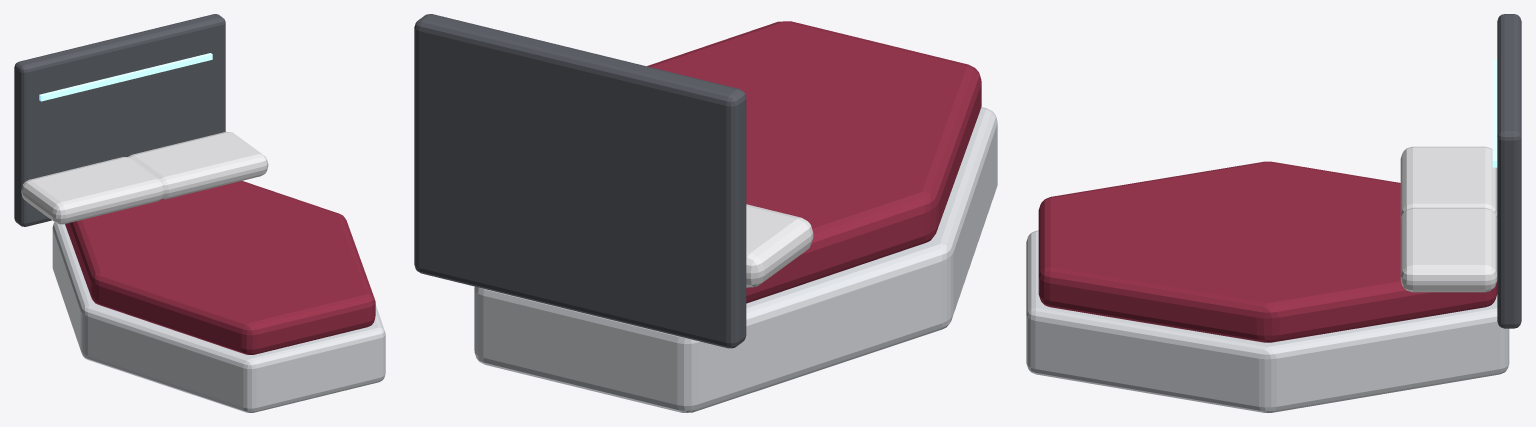
File: bed_hex.glb
The picture shows the model from 3 angles, left to right: view 1: azimuth 30°, elevation 25°; view 2: azimuth 150°, elevation 25°; view 3: azimuth 270°, elevation 25°; orthographic projection. The views are drawn at different scales.
Visible parts, largest first — view 1: GD_bed_hex__m1, GD_bed_hex__m4, GD_bed_hex__m0, GD_bed_hex__m3, GD_bed_hex__m2; view 2: GD_bed_hex__m4, GD_bed_hex__m1, GD_bed_hex__m0, GD_bed_hex__m3; view 3: GD_bed_hex__m1, GD_bed_hex__m0, GD_bed_hex__m3, GD_bed_hex__m4, GD_bed_hex__m2.
Part boxes in pixels (x1=…): GD_bed_hex__m1: x1=65, y1=181, x2=375, y2=354; GD_bed_hex__m4: x1=14, y1=14, x2=225, y2=226; GD_bed_hex__m0: x1=52, y1=222, x2=385, y2=412; GD_bed_hex__m3: x1=21, y1=131, x2=268, y2=224; GD_bed_hex__m2: x1=39, y1=53, x2=212, y2=101; GD_bed_hex__m4: x1=414, y1=14, x2=746, y2=348; GD_bed_hex__m1: x1=647, y1=21, x2=981, y2=303; GD_bed_hex__m0: x1=474, y1=107, x2=997, y2=412; GD_bed_hex__m3: x1=746, y1=204, x2=813, y2=287; GD_bed_hex__m1: x1=1038, y1=161, x2=1497, y2=342; GD_bed_hex__m0: x1=1026, y1=230, x2=1509, y2=412; GD_bed_hex__m3: x1=1400, y1=146, x2=1497, y2=292; GD_bed_hex__m4: x1=1497, y1=14, x2=1521, y2=328; GD_bed_hex__m2: x1=1492, y1=59, x2=1497, y2=167.
Size of the model in its own units: 1.58 by 1.2 by 2.05.
